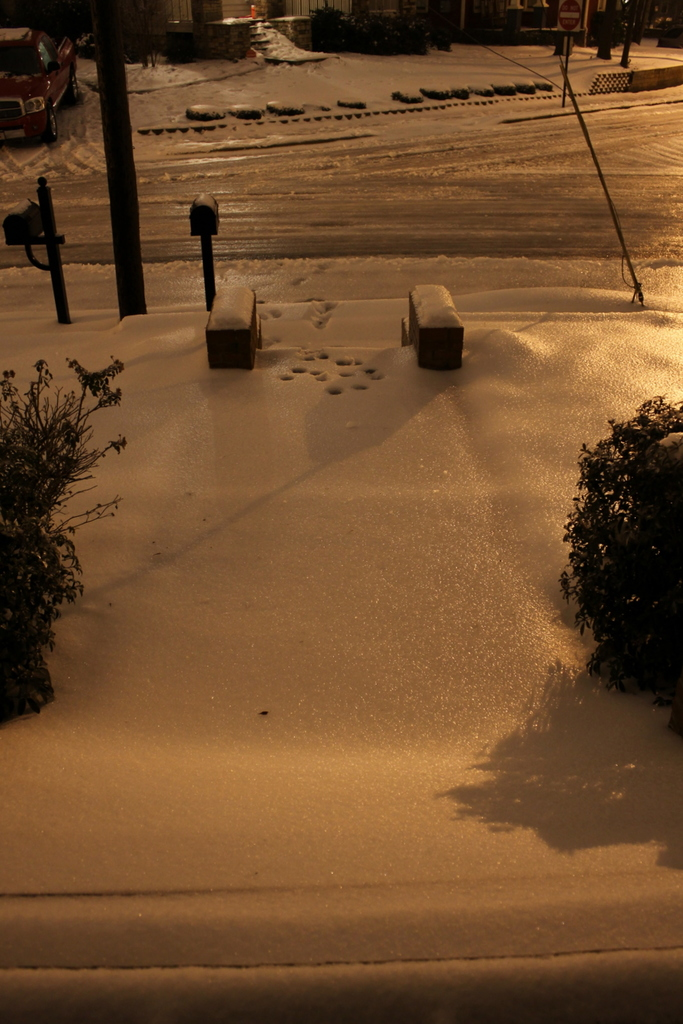Car: (0, 27, 76, 143)
